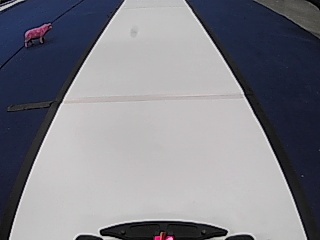pig: (21, 20, 54, 46)
